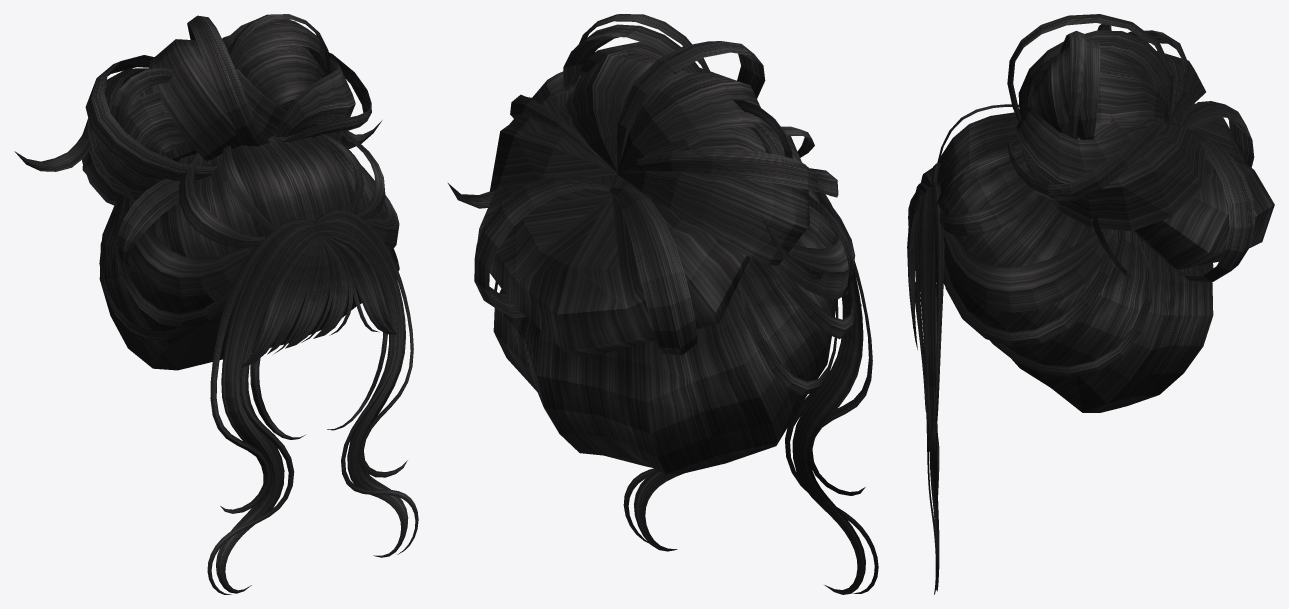
3 renders of one model, left to right at view 1: azimuth 30°, elevation 25°; view 2: azimuth 150°, elevation 25°; view 3: azimuth 270°, elevation 25°, orthographic. The views are drawn at different scales.
Parts seen in each view (by area): view 1: geometry_0; view 2: geometry_0; view 3: geometry_0.
Boxes of the visible parts, x1,y1,x2,y2 form: geometry_0: (14, 14, 418, 594); geometry_0: (448, 14, 878, 594); geometry_0: (907, 14, 1274, 594).
Size of the model in its own units: 2.16 by 3.06 by 1.93.
1 material, 1 textured.
